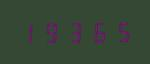five: (110, 19, 132, 42)
nine: (41, 20, 63, 44)
one: (18, 20, 40, 44)
six: (87, 19, 109, 43)
three: (64, 20, 86, 43)
